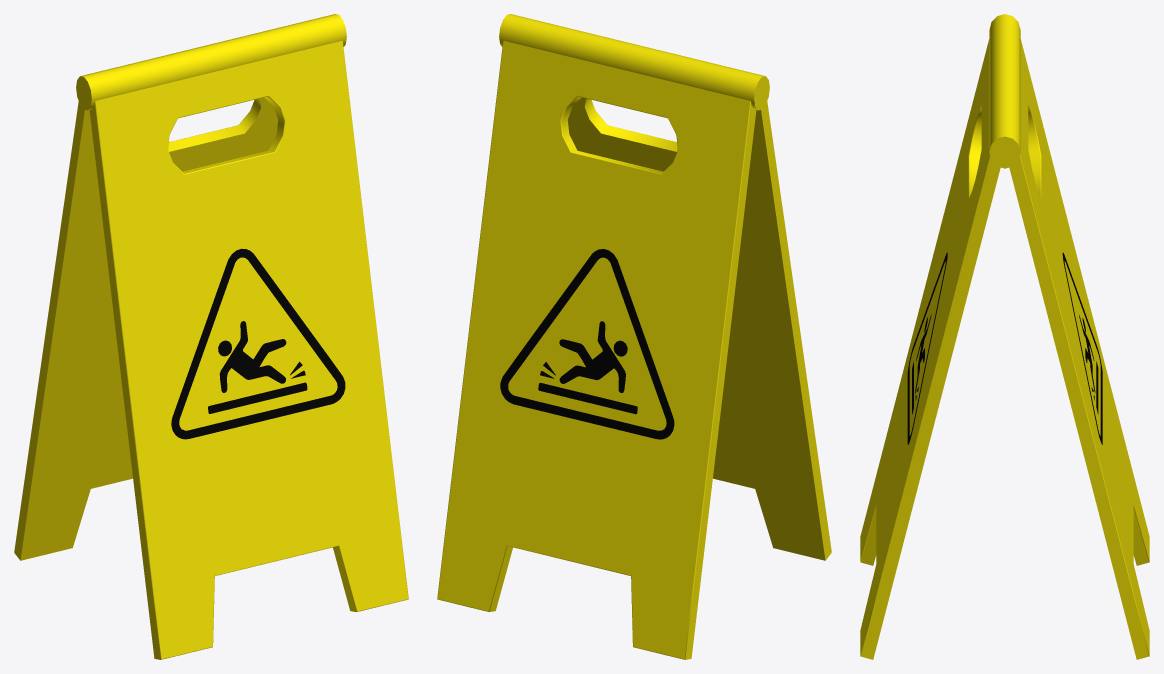
Rendered from Prop_PlasticSign.FBX.
3 renders of one model, left to right at view 1: azimuth 30°, elevation 25°; view 2: azimuth 150°, elevation 25°; view 3: azimuth 270°, elevation 25°, orthographic.
Visible parts, largest first — view 1: Baytek_PlayerRoom_Set02_Sign, Curve.001; view 2: Baytek_PlayerRoom_Set02_Sign, Curve.001; view 3: Baytek_PlayerRoom_Set02_Sign, Curve.001.
Boxes of the visible parts, x1,y1,x2,y2 form: Baytek_PlayerRoom_Set02_Sign: (14,14,408,659); Curve.001: (171,248,345,439); Baytek_PlayerRoom_Set02_Sign: (437,14,831,659); Curve.001: (500,249,674,439); Baytek_PlayerRoom_Set02_Sign: (860,14,1149,659); Curve.001: (907,252,1102,444).
Size of the model in its own units: 60.01 by 120 by 59.94.
